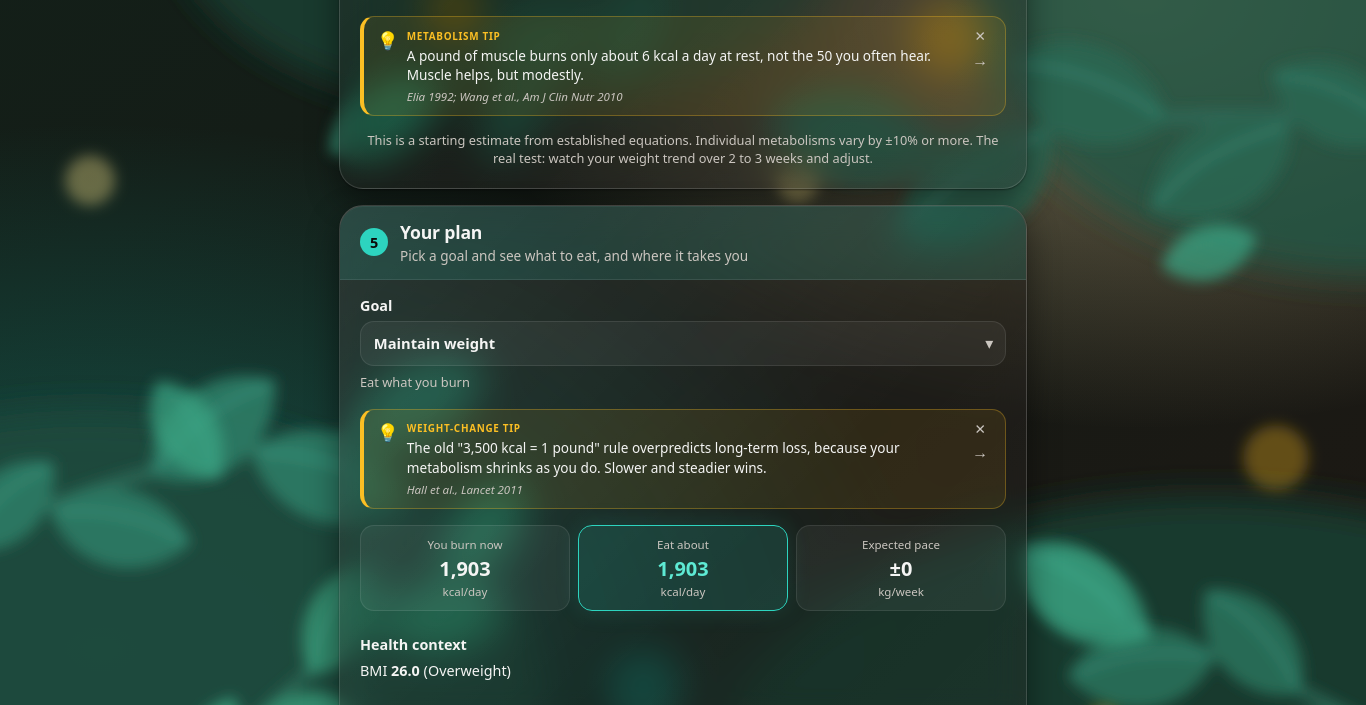
Test case: <App /> end-to-end render › projects a weight change and chart when a loss goal is chosen
(page scrolled)
Select "Aggressive weight loss" in the dropdown named "Goal" at (683, 343), box [360,321,1006,366]
(page scrolled)
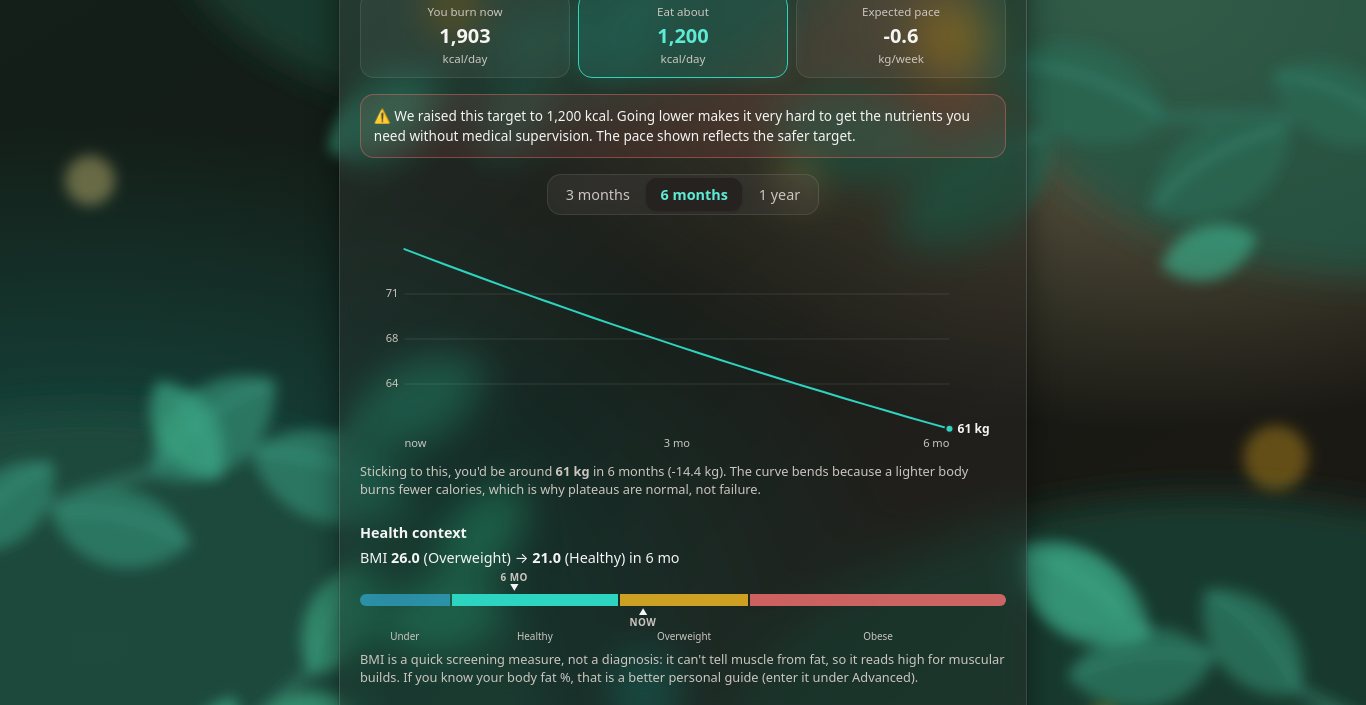
Check: the picture named "Projected weight over" is shown, box [360,233,1006,455]
